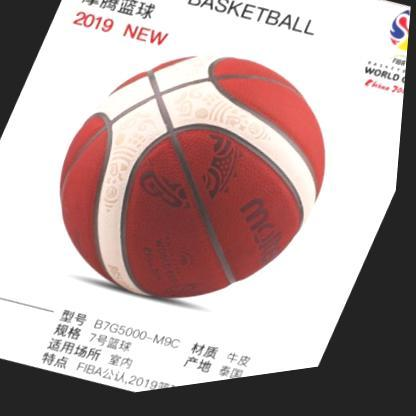basketball: (14, 4, 374, 362)
